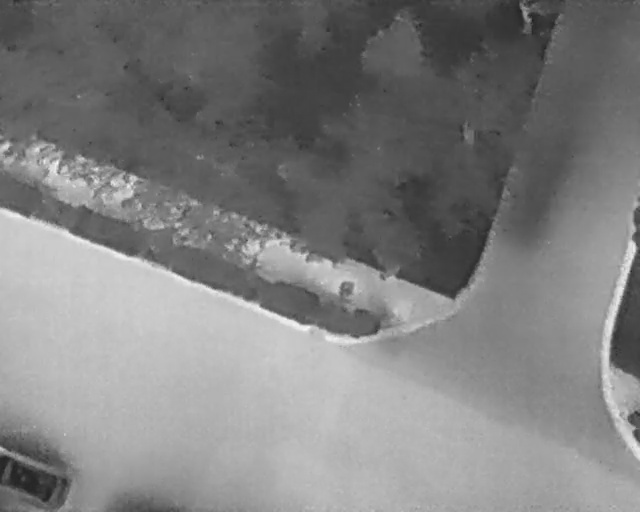Car: (0, 445, 73, 510)
